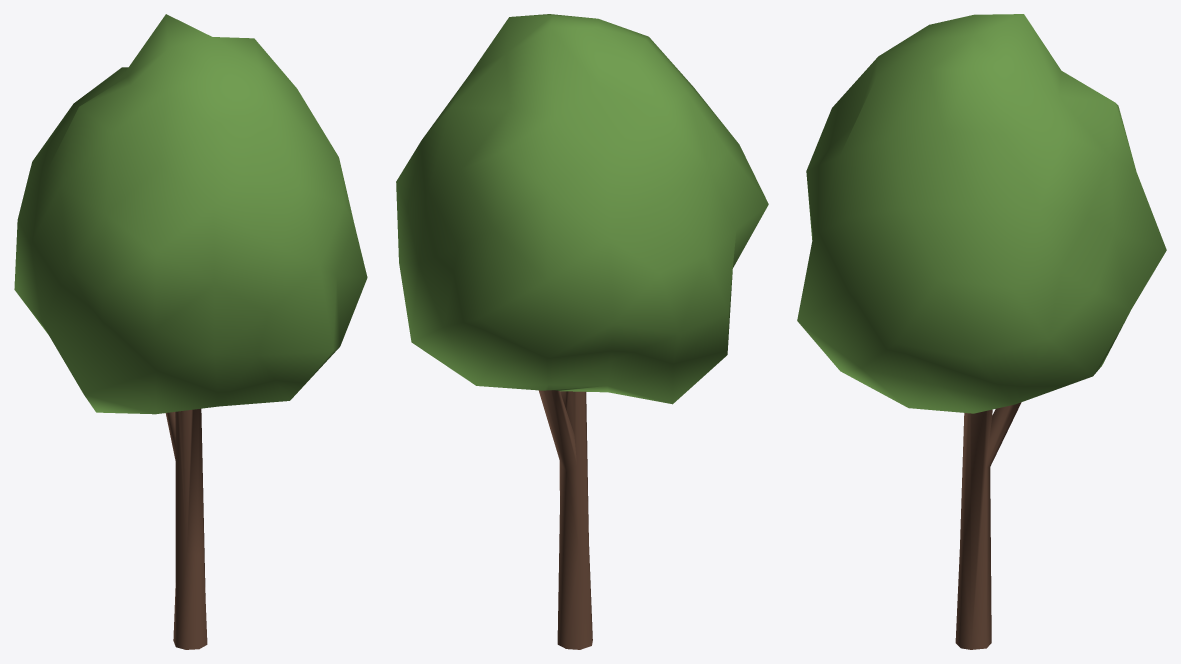
File: tree.fbx
3 views of the same model, side by side, from view 1: azimuth 30°, elevation 25°; view 2: azimuth 150°, elevation 25°; view 3: azimuth 270°, elevation 25° (orthographic). The views are drawn at different scales.
Visible parts, largest first — view 1: Tree; view 2: Tree; view 3: Tree.
Boxes of the visible parts, x1,y1,x2,y2 form: Tree: [14, 14, 367, 649]; Tree: [396, 14, 768, 649]; Tree: [797, 14, 1166, 649].
Size of the model in its own units: 205 by 393 by 210.
